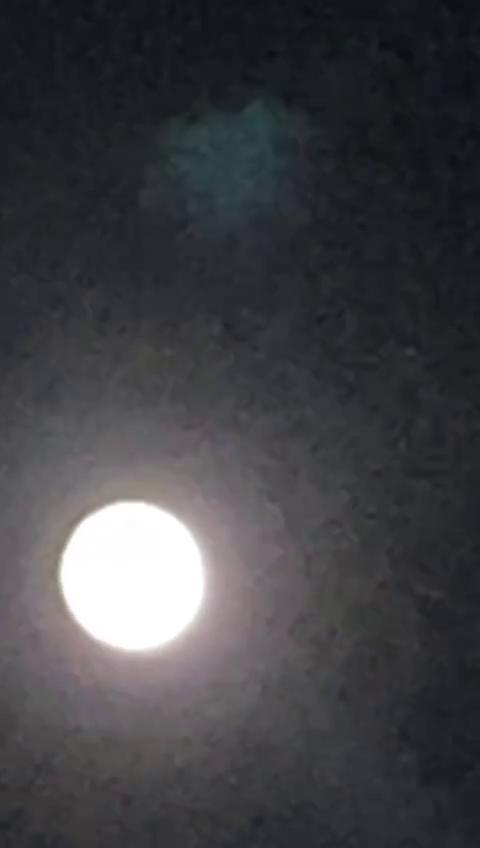moon: (99, 448, 271, 640)
